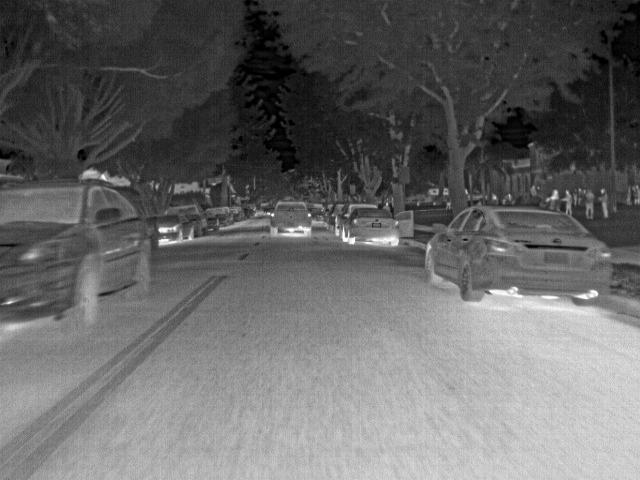car: (0, 176, 159, 329), (421, 206, 611, 306), (340, 208, 416, 247), (271, 200, 313, 234), (164, 201, 206, 235), (157, 212, 193, 242), (335, 201, 349, 235), (323, 202, 338, 230), (216, 203, 232, 228), (204, 206, 218, 232), (230, 204, 245, 222), (315, 204, 327, 222), (244, 204, 257, 220), (261, 200, 274, 214)
person: (596, 188, 611, 220), (582, 188, 594, 220), (561, 188, 574, 214), (547, 186, 561, 208), (502, 192, 514, 206), (489, 194, 501, 205), (633, 186, 639, 206), (381, 201, 391, 208)
